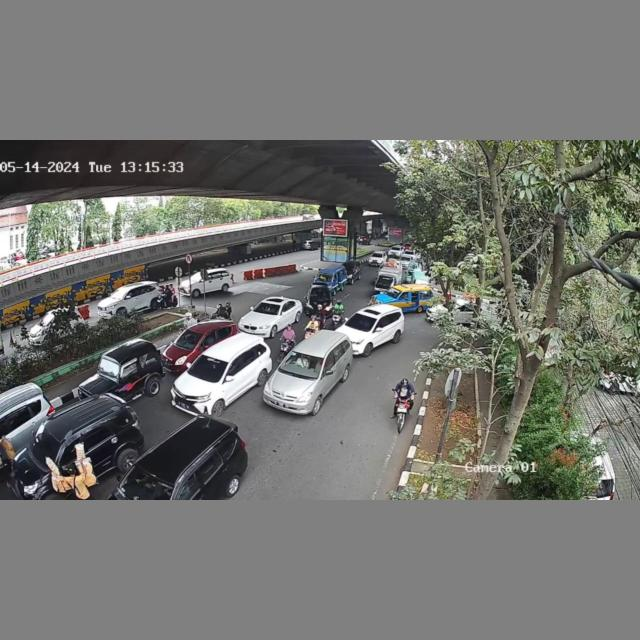windshield: (283, 348, 324, 380), (187, 354, 229, 384), (346, 312, 378, 335), (176, 330, 200, 350), (254, 302, 282, 316)
